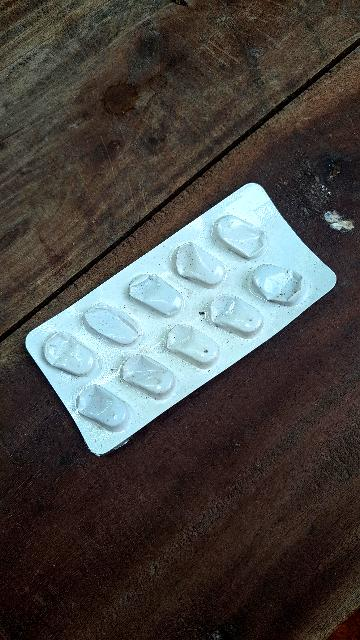medicine: (14, 158, 340, 453)
